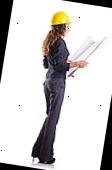helmet: (49, 9, 74, 29)
no_wear: (42, 34, 72, 76)
